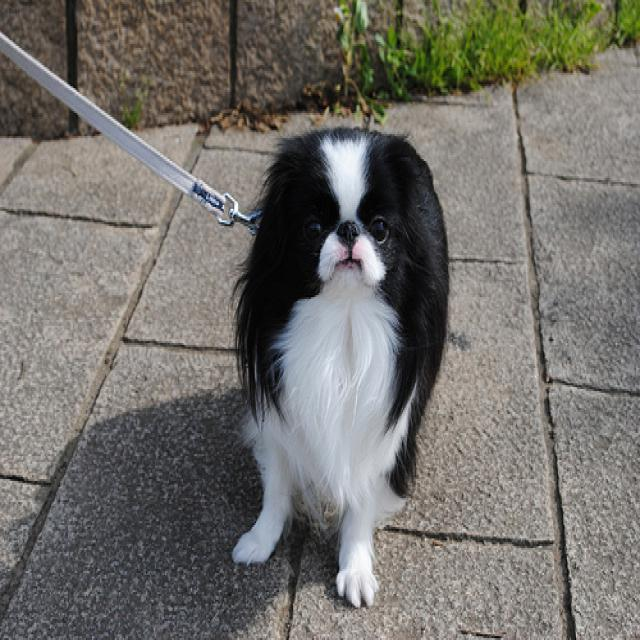dog-japanese_chin: (220, 113, 454, 613)
